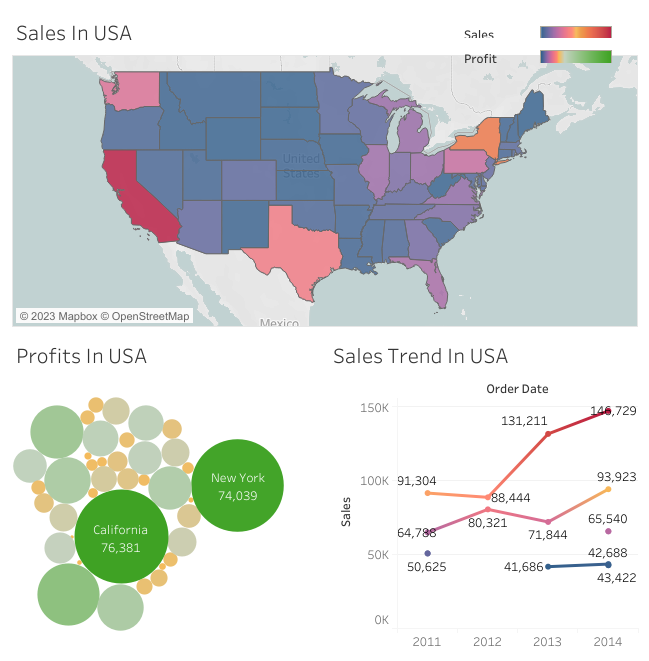

Layout of this report page (visuals, bound fields, positions):
{"tool":"tableau","page":{"name":"Sales & Profits in USA","canvas":[650,860],"ordinal":0},"visuals":[{"type":"worksheet","title":"Sales In USA","mark":"Automatic","box":[8,9.1,634,420.9]},{"type":"legend","title":"Sales In USA","param":"[federated.0smdxug1dasz161bv6tb607j3s1w].[sum:Sales:qk]","box":[460,22.8,160,32.4]},{"type":"legend","title":"Profits In USA","param":"[federated.0smdxug1dasz161bv6tb607j3s1w].[sum:Profit:qk]","box":[460,55.2,160,32.4]},{"type":"worksheet","title":"Profits In USA","mark":"Circle","box":[8,430,317,420.9]},{"type":"worksheet","title":"Sales Trend In USA","mark":"Line","rows":["Sales"],"cols":["Order Date"],"box":[325,430,317,420.9]}]}

Visuals, with their boxes on the page's 650x860 design canvas (x1, y1, x2, y2). These are canvas units, not pixel positions in the 649x661 screenshot, which may show the page scaled, cropped or inside an application window:
"Sales In USA" worksheet: bbox=[8, 9, 642, 430]
"Sales In USA" legend: bbox=[460, 23, 620, 55]
"Profits In USA" legend: bbox=[460, 55, 620, 88]
"Profits In USA" worksheet (Circle marks): bbox=[8, 430, 325, 851]
"Sales Trend In USA" worksheet (Line marks): bbox=[325, 430, 642, 851]
